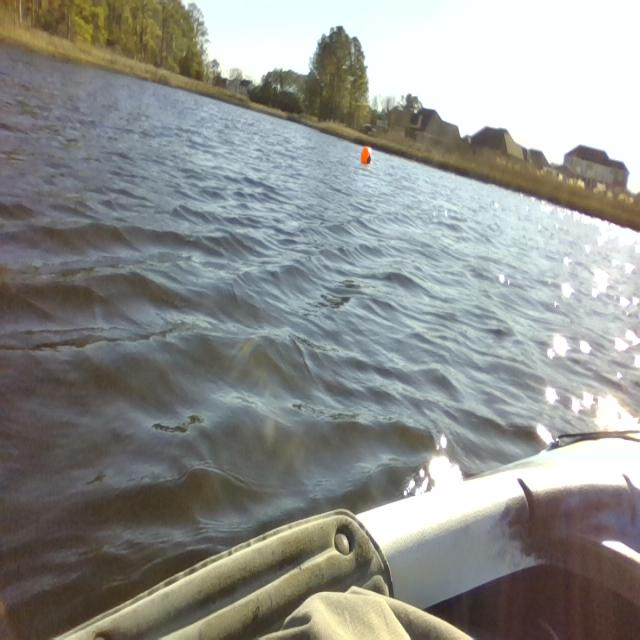Buoy: (358, 142, 376, 169)
